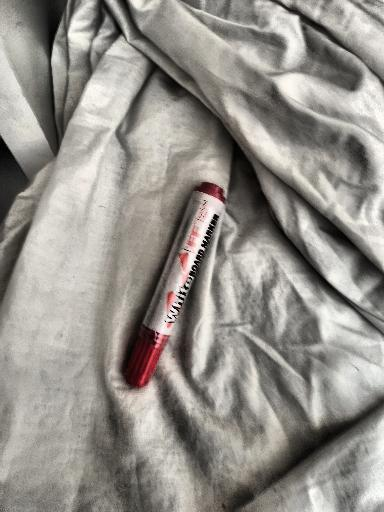marcador rojo: (125, 182, 225, 388)
